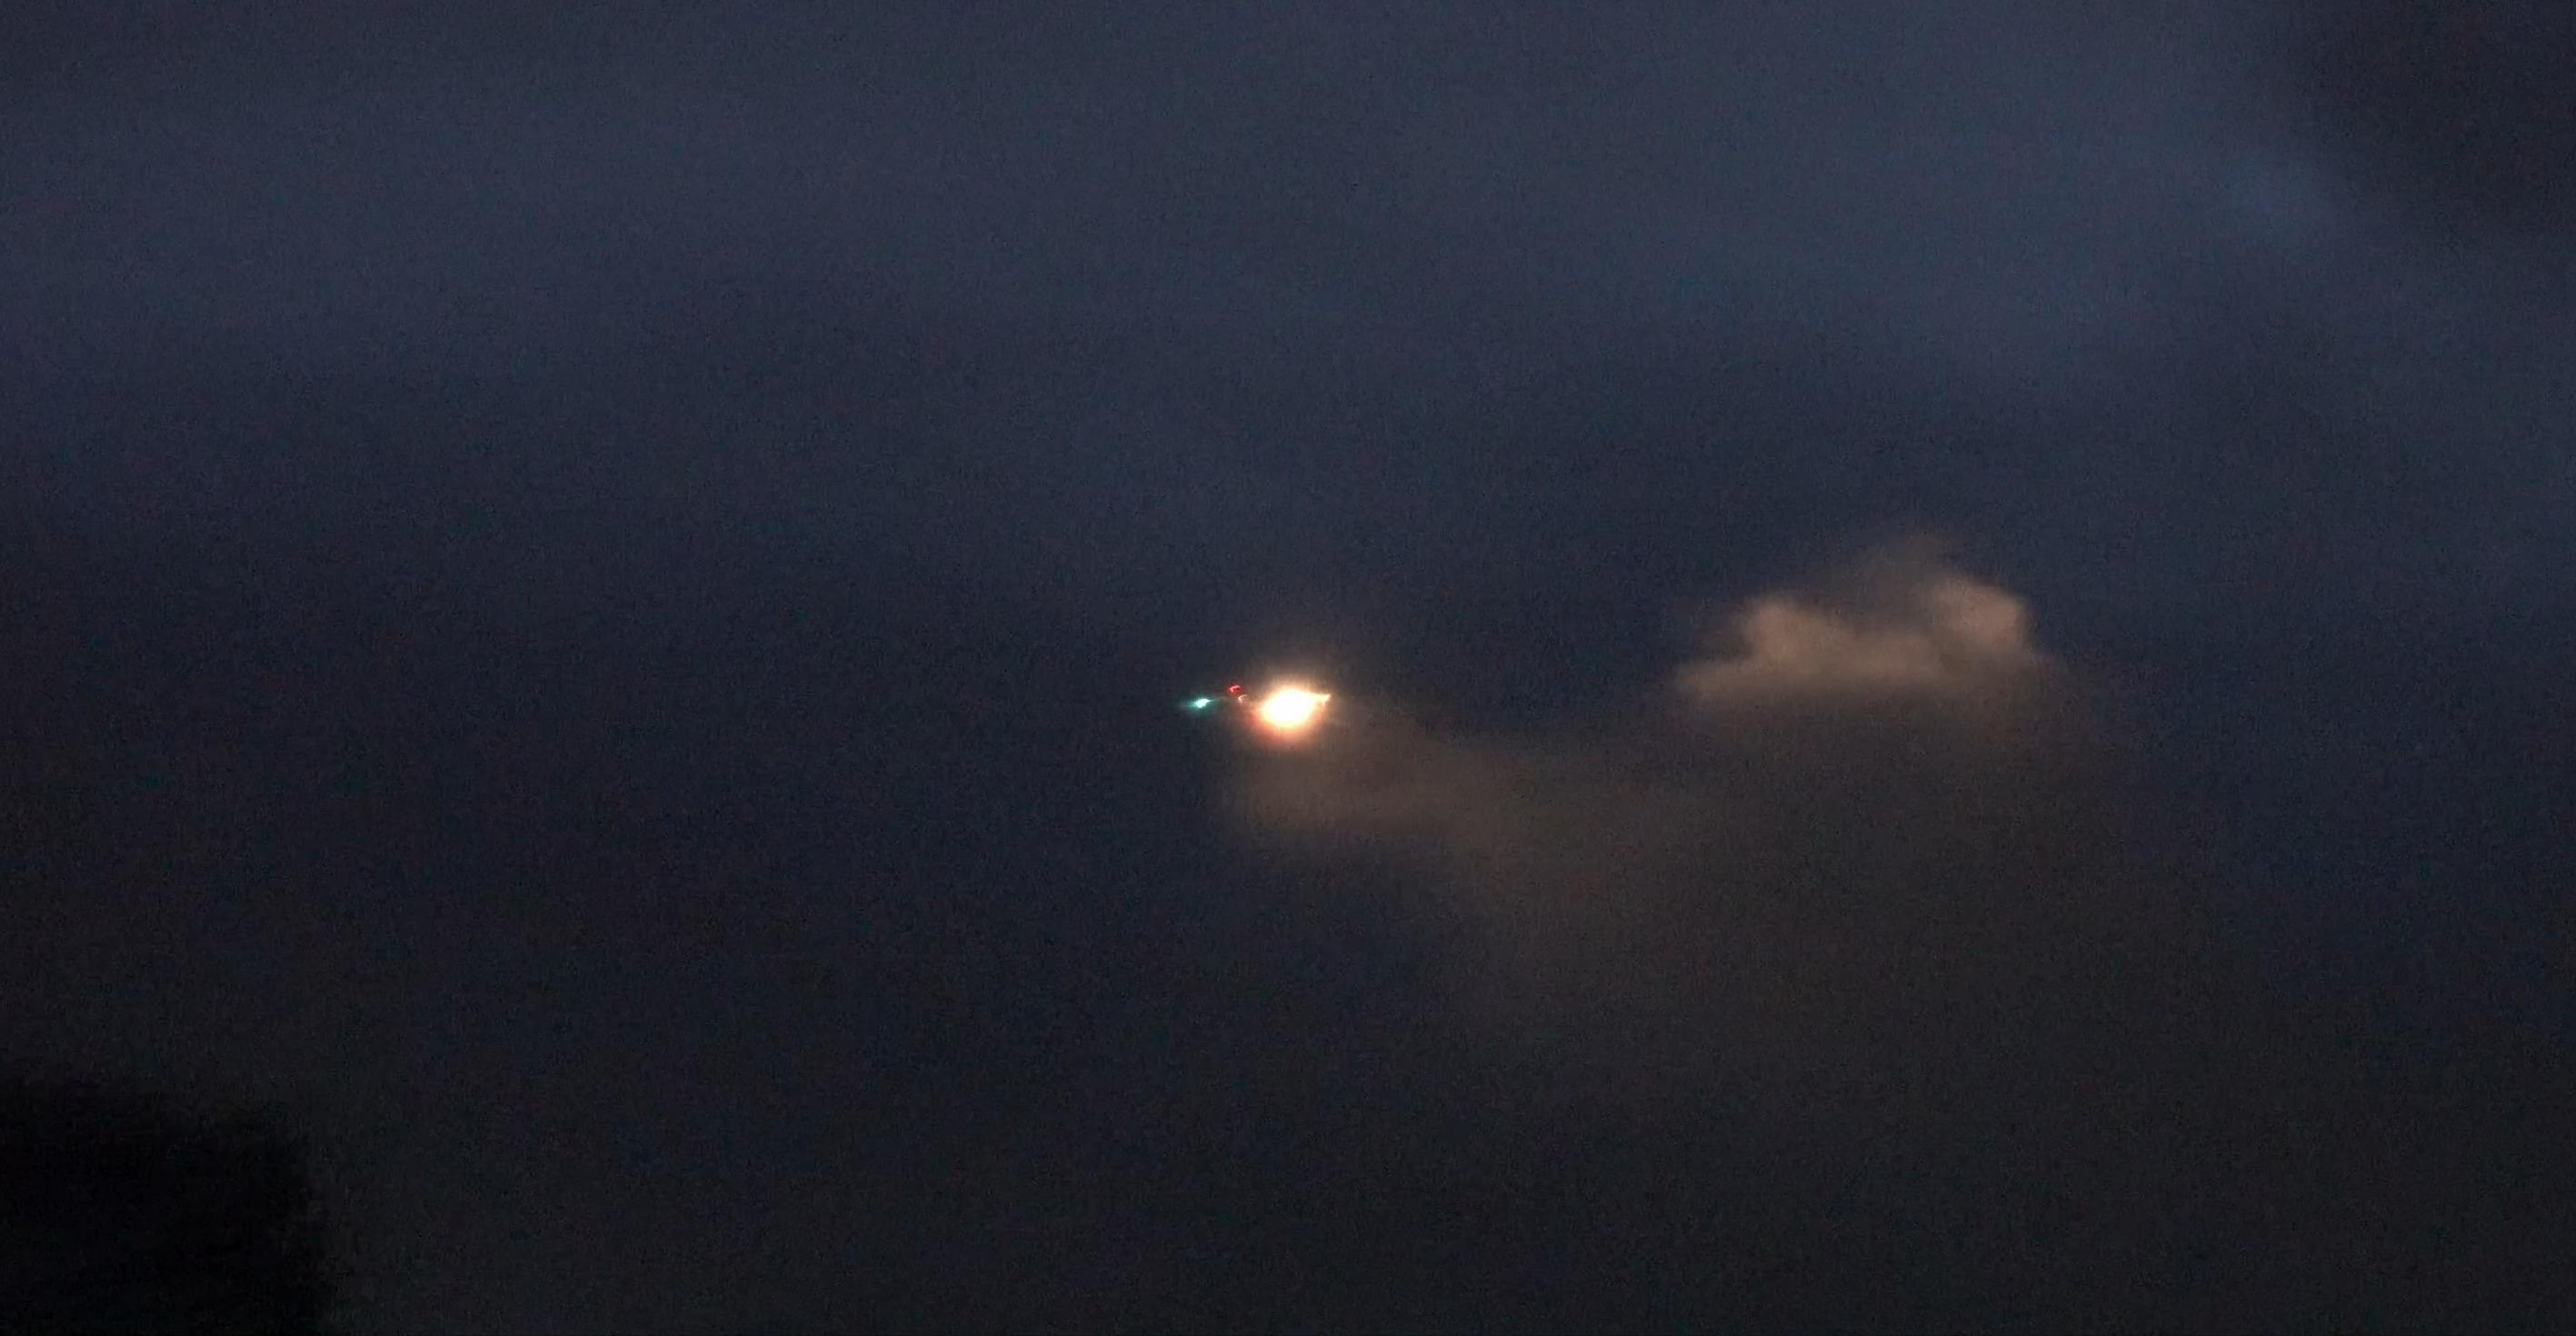Plane: (1084, 615, 1445, 786)
